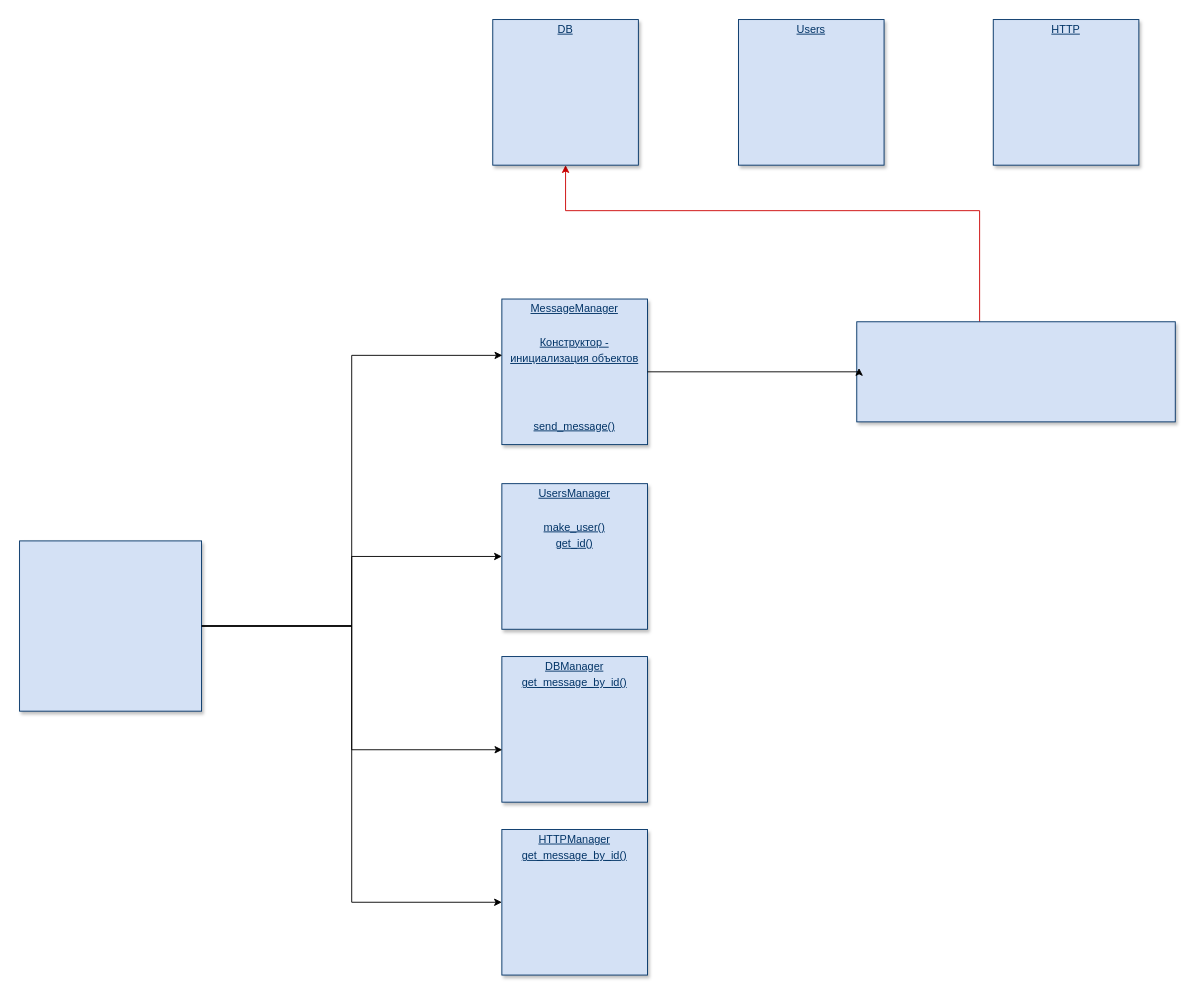
This 1197x997 diagram has some shape labels left out. The centre of each missing label's shape, as x and y in pixels:
"CORE Конструктор - MessageManager(), UsersManager(), DBManager()" goes at point (111, 627).
"send_message() Вызываю у DB все объекты что бы добавит это в бд" goes at point (1016, 372).
